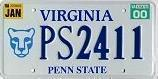placa de veiculo: (2, 1, 152, 78)
